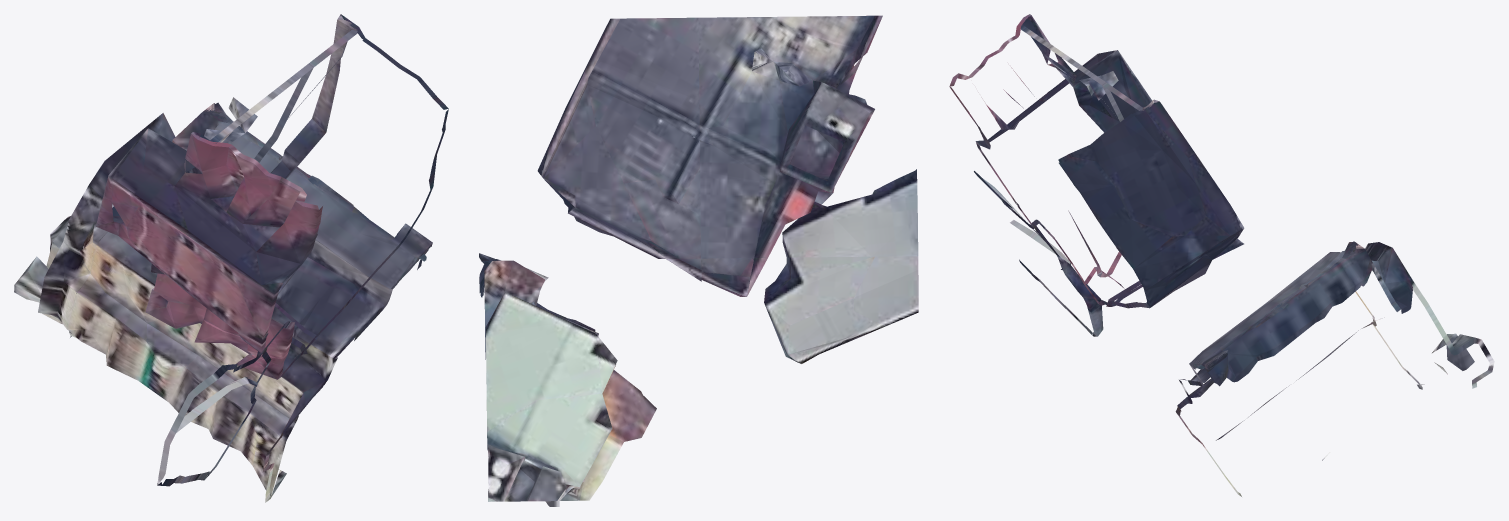
3 views of the same model, side by side, from view 1: azimuth 30°, elevation 25°; view 2: azimuth 150°, elevation 25°; view 3: azimuth 270°, elevation 25° (orthographic). The views are drawn at different scales.
Size of the model in its own units: 30.86 by 38.99 by 47.66.
Materials: 2 (2 with a texture image).
